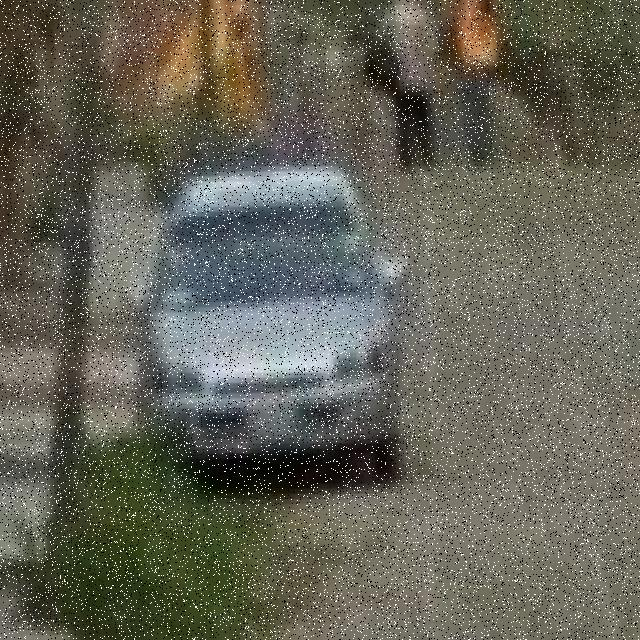cars: (134, 171, 404, 482)
